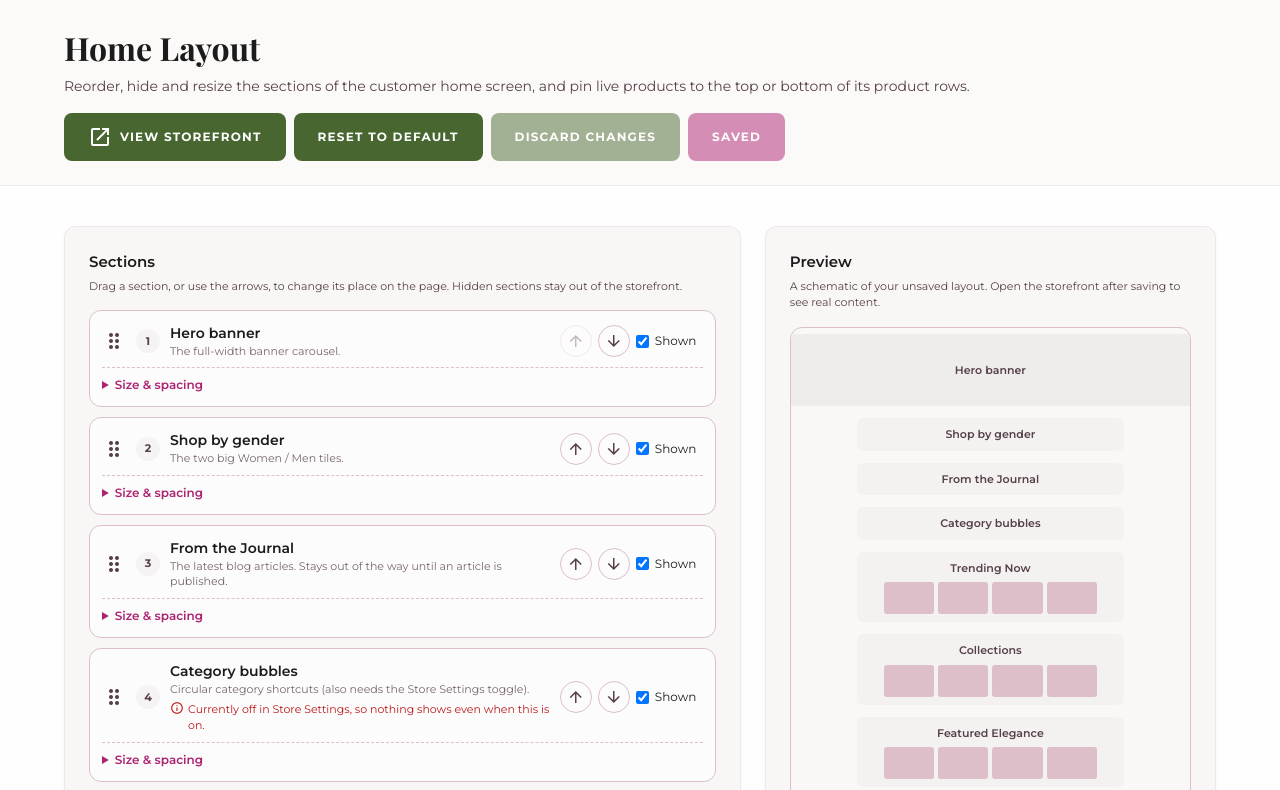
AdminHomeLayoutPage › shows a conflict banner offering to reload or overwrite when the save is rejected
Click the button named "Move Hero banner down".
click(614, 341)  # box [598, 325, 630, 357]
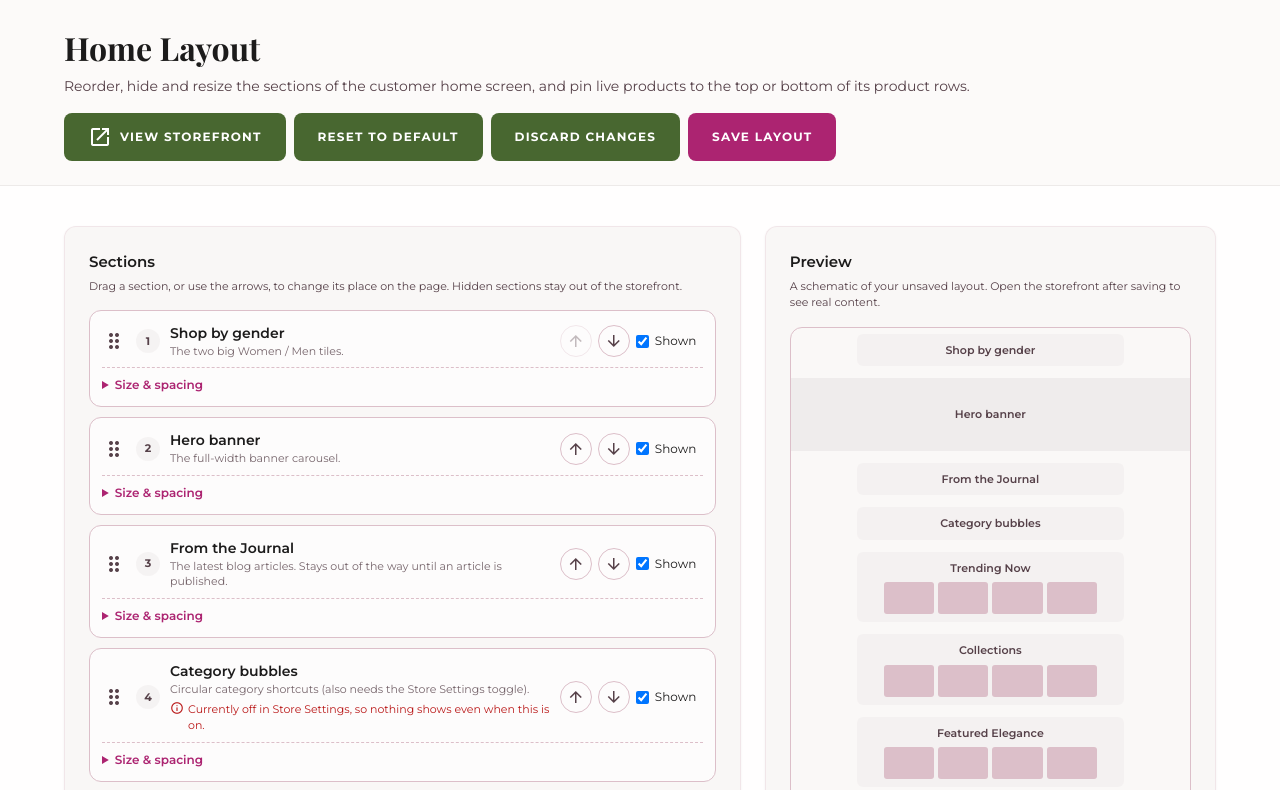
Click the button "Save layout".
click(762, 137)  # box [688, 113, 836, 161]
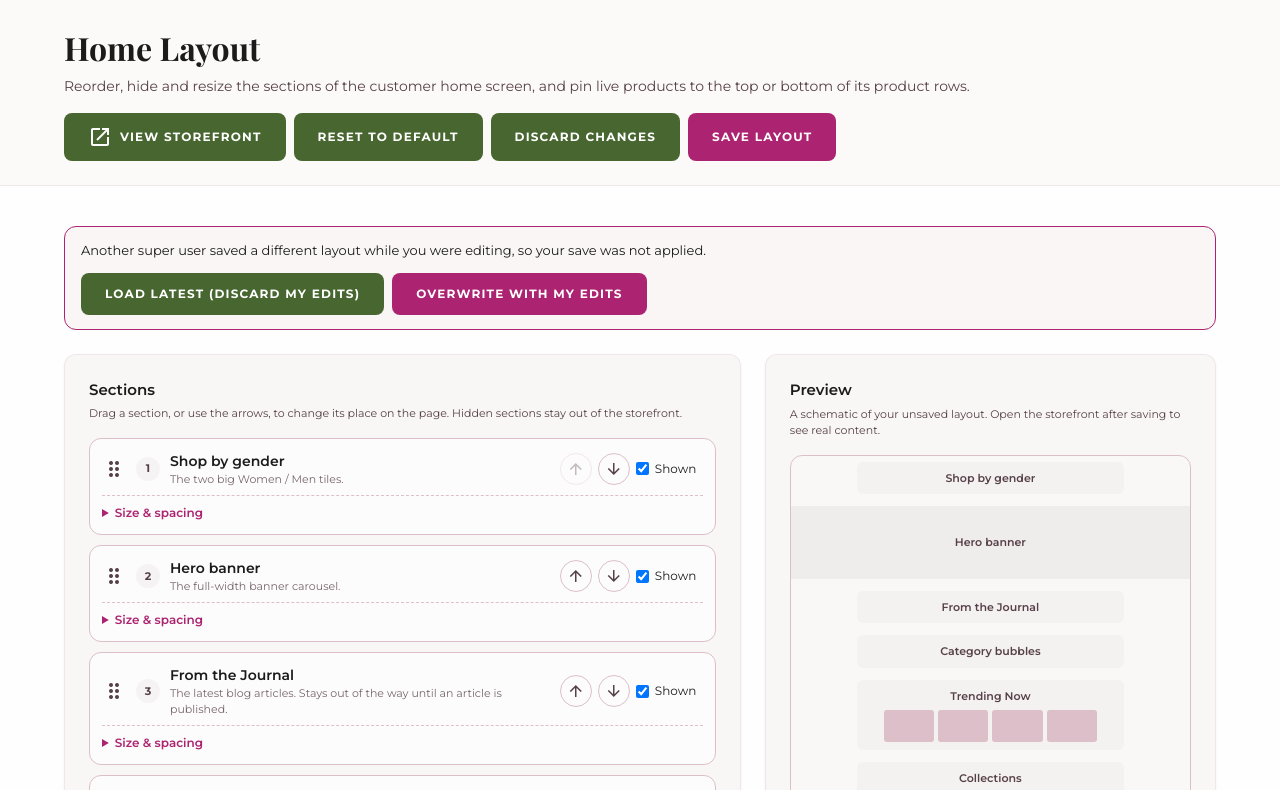
Expected: the text "Another super user saved a different layout" is shown, [81, 242, 706, 258]
Expected: the button "Load latest (discard my edits)" is shown, [81, 272, 384, 314]
Expected: the button "Overwrite with my edits" is shown, [392, 272, 647, 314]
